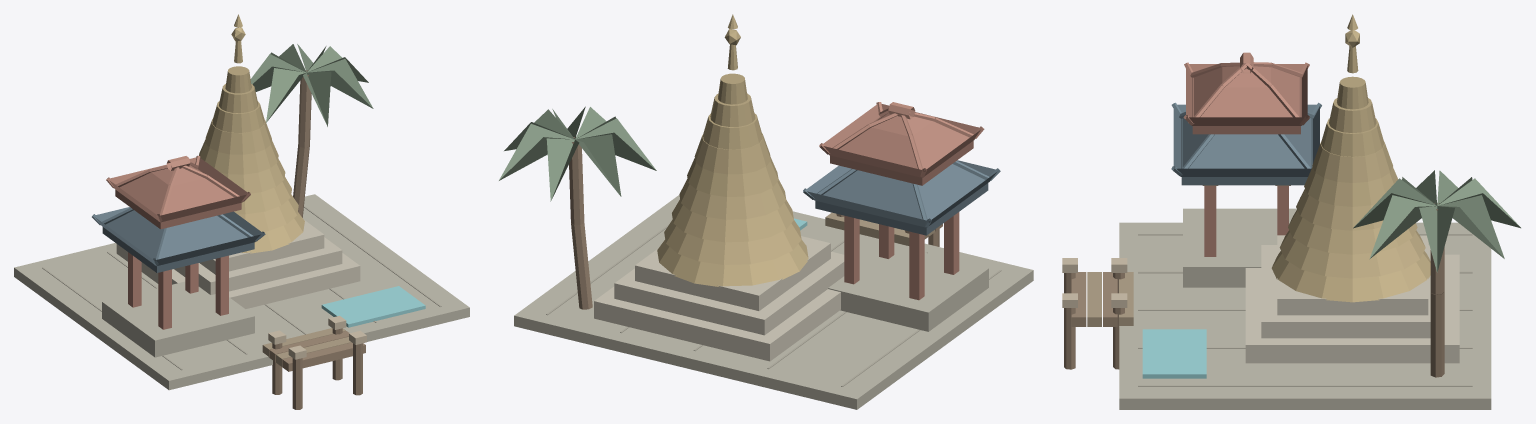
3 views of the same model, side by side, from view 1: azimuth 30°, elevation 25°; view 2: azimuth 150°, elevation 25°; view 3: azimuth 270°, elevation 25° (orthographic). The views are drawn at different scales.
Parts seen in each view (by area): view 1: S32; view 2: S32; view 3: S32.
Boxes of the visible parts, left/top/right/bottom form: S32: left=14, top=14, right=469, bottom=409; S32: left=499, top=14, right=1033, bottom=409; S32: left=1062, top=14, right=1520, bottom=409.
Size of the model in its own units: 4.09 by 3.45 by 4.08.
